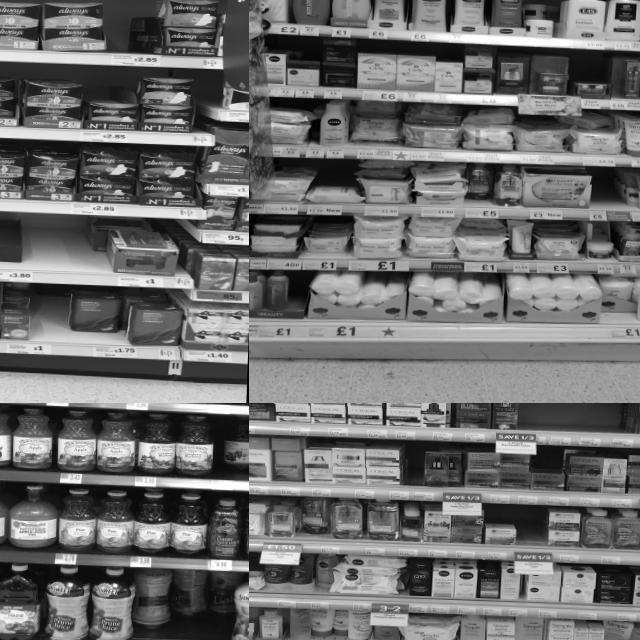100% O.O.S: (590, 168, 615, 220)
100- O.O.S: (21, 212, 85, 284), (30, 295, 70, 355), (516, 508, 550, 562), (105, 0, 131, 65), (518, 403, 548, 444), (547, 403, 576, 445), (602, 403, 627, 447), (576, 403, 602, 445), (406, 443, 424, 500)
